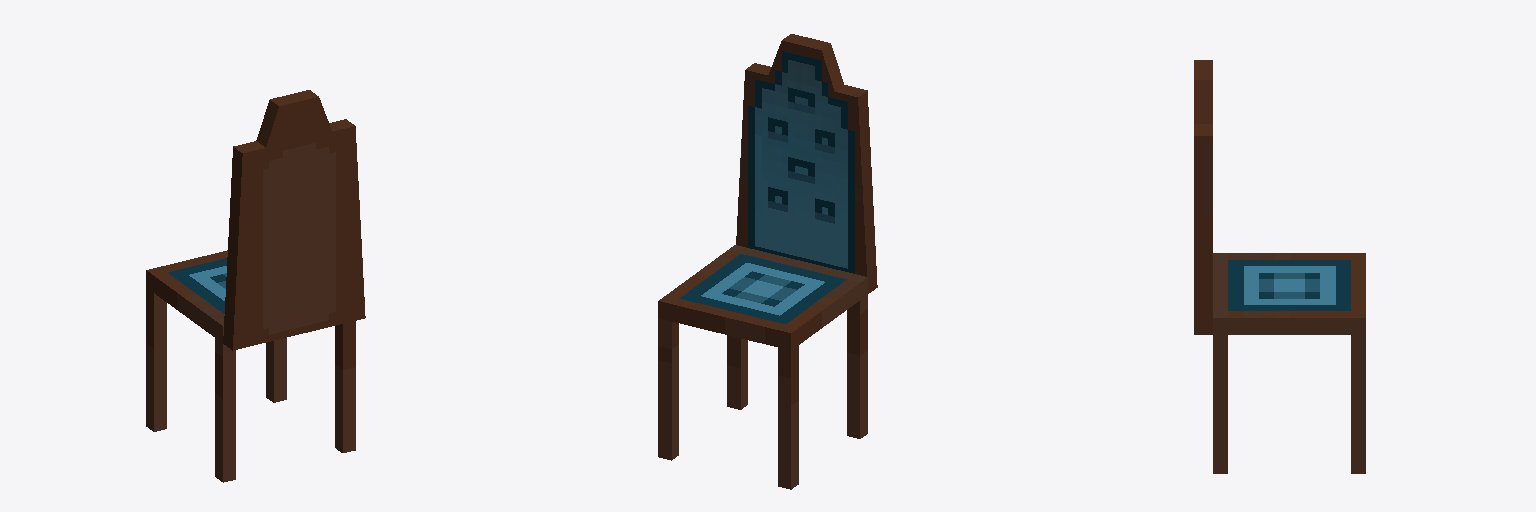
3 renders of one model, left to right at view 1: azimuth 30°, elevation 25°; view 2: azimuth 150°, elevation 25°; view 3: azimuth 270°, elevation 25°, orthographic.
Visible parts, largest first — view 1: cuboid; view 2: cuboid; view 3: cuboid.
Boxes of the visible parts, box(x1,y1,x2,y2) form: cuboid: box(146, 90, 365, 482); cuboid: box(658, 34, 877, 489); cuboid: box(1194, 60, 1365, 473).
Size of the model in its own units: 0.625 by 1.67 by 0.7031.
2 materials, 2 textured.